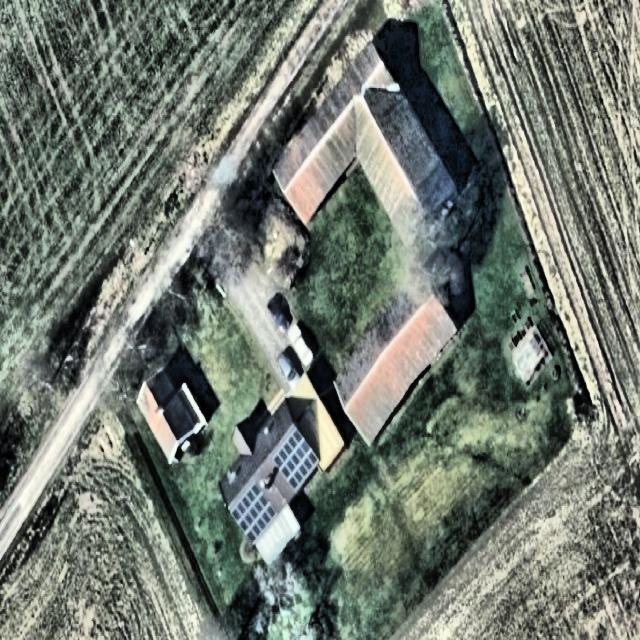roof_pv: (275, 428, 321, 493), (233, 482, 275, 540)
